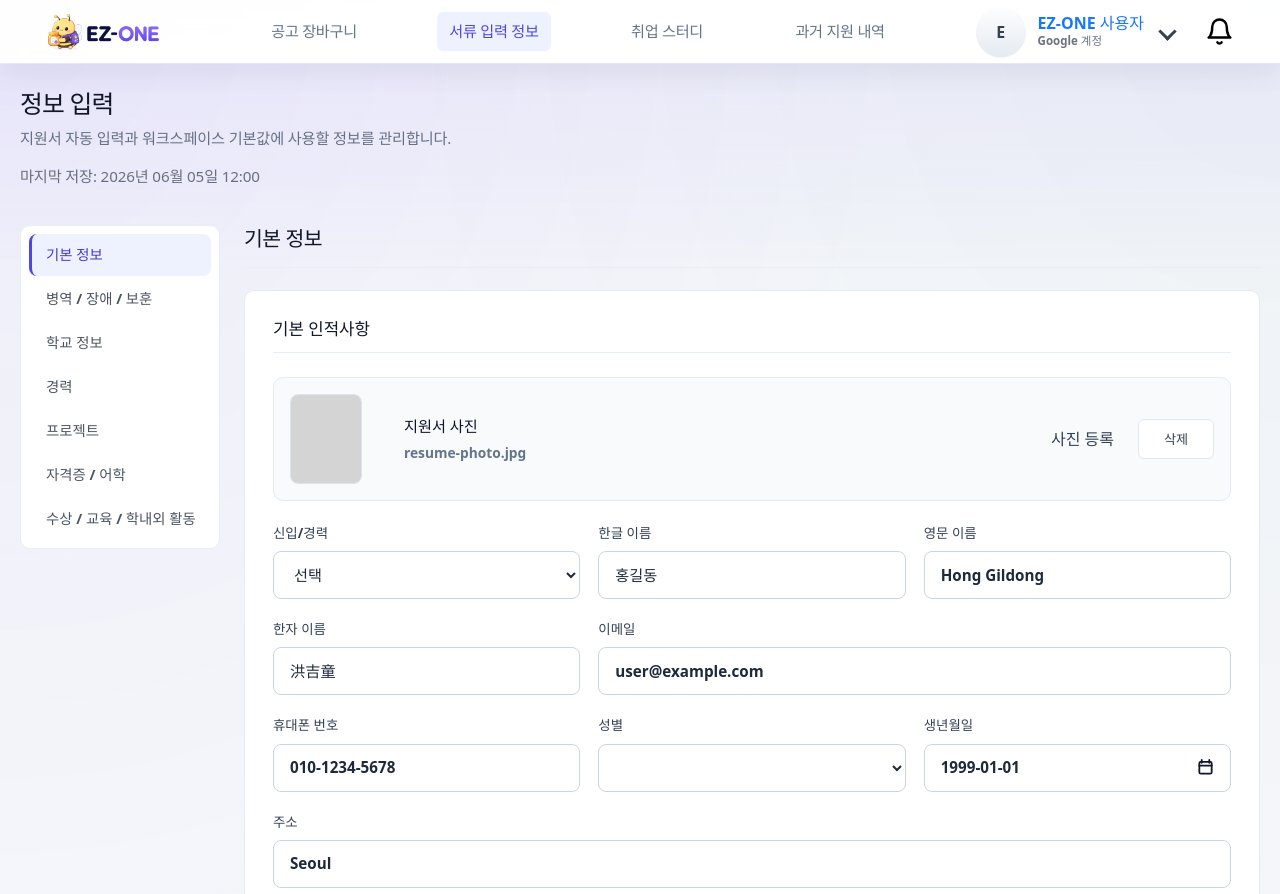
Test case: DocumentProfilePage › PROFILE-011: places disability and veteran target choices in the section heading
The width and height of the screenshot is (1280, 894).
Click the button with test id "section-military" at (120,299), box [29,278,211,320]
(page scrolled)
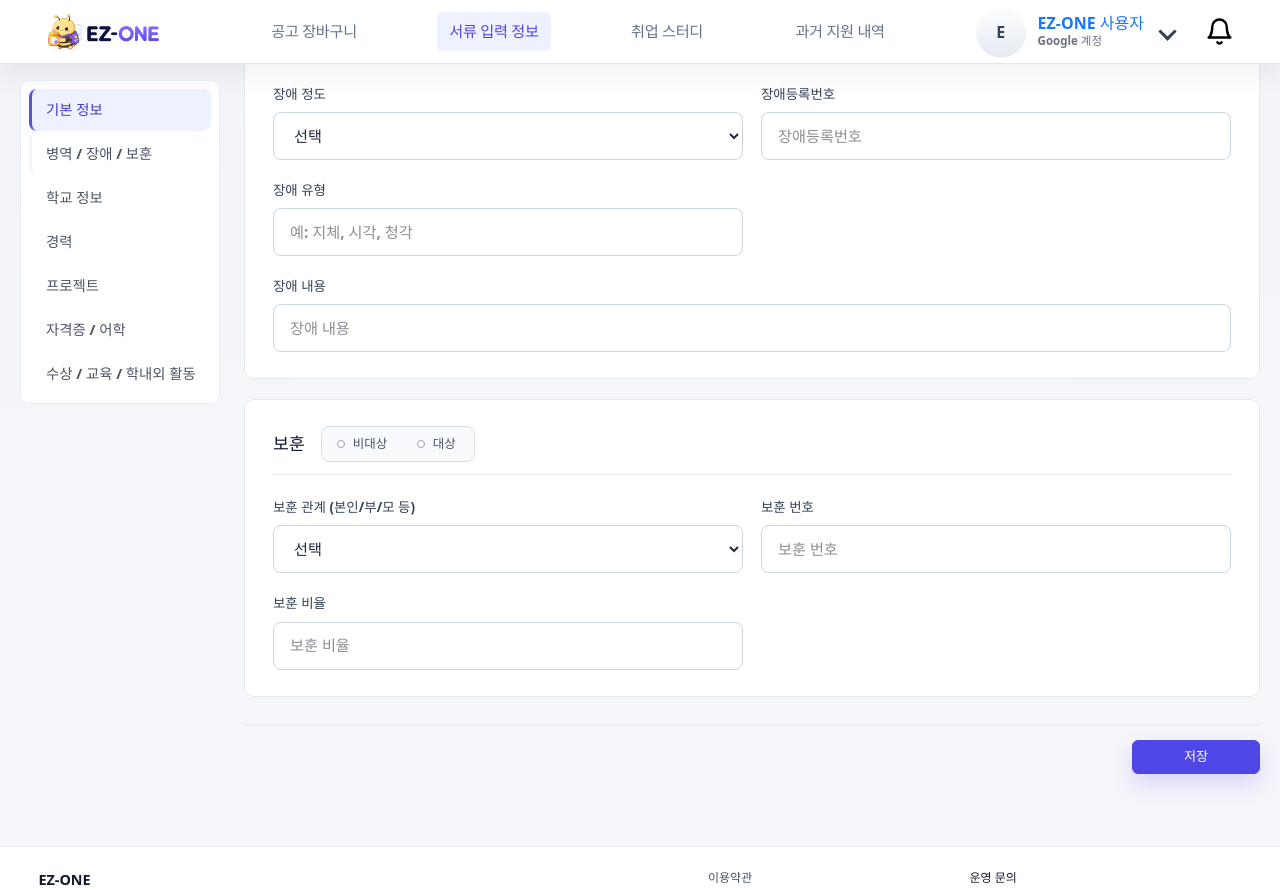
Expected: the element with test id "disability-hasDisability-radio-group" is shown, [273,13,1231,62]
Expected: the element with test id "veteran-isVeteran-radio-group" is shown, [273,426,1231,475]
